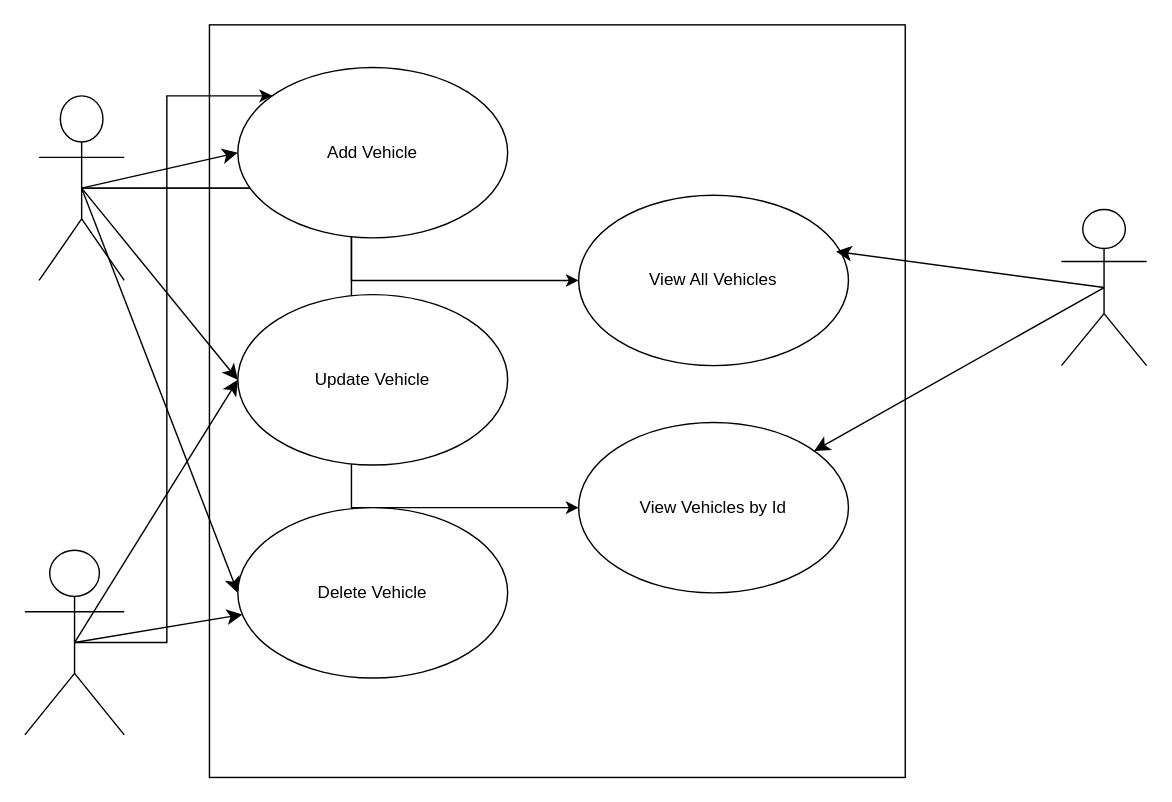
This 1172x802 diagram has some shape labels left out. The centre of each missing label's shape, as x and y in pixels:
"Admin" belongs at pixel 81 187.
"Guest/User" belongs at pixel 1103 287.
"Renter" belongs at pixel 73 642.
